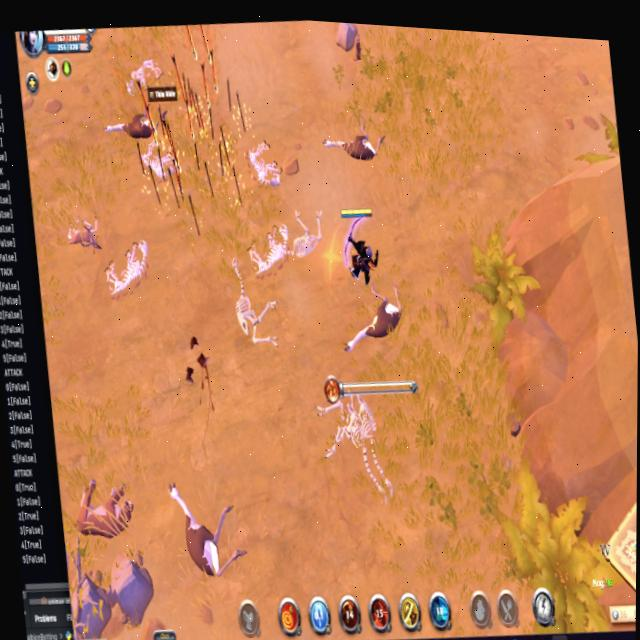mob: (164, 468, 252, 587), (61, 465, 144, 550), (335, 275, 410, 358), (98, 90, 168, 151), (315, 117, 391, 170), (58, 205, 109, 263)
red: (336, 202, 380, 292)
